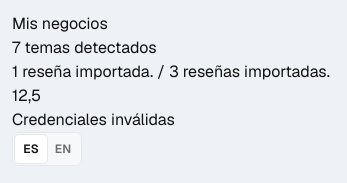
i18n › al elegir inglés traduce la interfaz, los errores conocidos y recuerda la preferencia
Step 1. Click the radio button with aria-label "English" → [63, 149], box [47,135,79,163]
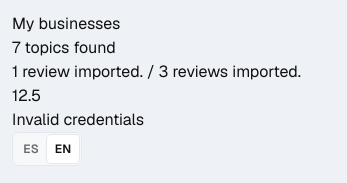
Check: the text with test id "title" reads "My businesses", box [12,13,120,34]
Check: the text with test id "plural" reads "1 review imported. / 3 reviews imported.", box [12,61,301,82]
Check: the text with test id "error" reads "Invalid credentials", box [12,109,144,130]
